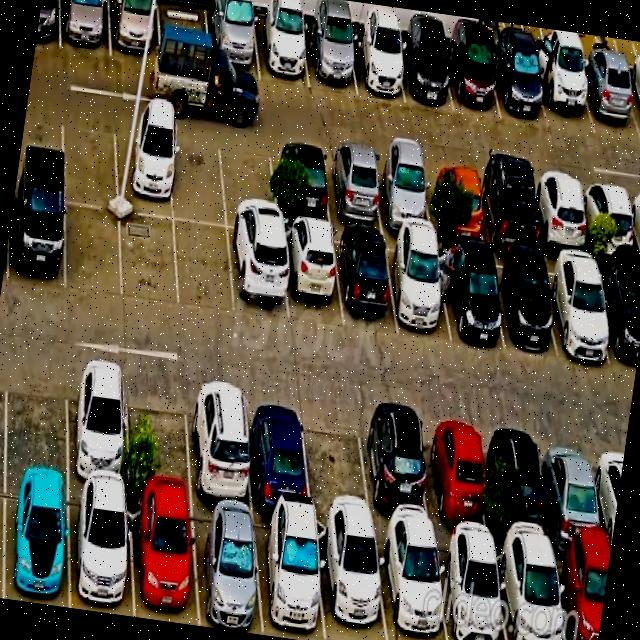empty: (303, 398, 373, 526), (127, 370, 192, 501), (6, 354, 68, 480), (219, 134, 278, 235), (174, 221, 235, 314), (62, 111, 118, 209), (170, 128, 226, 226), (121, 213, 178, 309), (66, 204, 122, 298), (158, 0, 212, 73)
occupied: (190, 503, 263, 635), (359, 406, 434, 534), (129, 494, 199, 626), (254, 512, 325, 640), (422, 412, 490, 542), (3, 477, 69, 608), (541, 427, 608, 555), (316, 520, 387, 640), (70, 484, 134, 617), (188, 379, 253, 509), (245, 388, 311, 515), (68, 360, 129, 491), (375, 531, 448, 640), (491, 420, 553, 548), (435, 536, 507, 640), (543, 255, 612, 363), (436, 246, 505, 350), (487, 252, 557, 353), (385, 237, 451, 343), (495, 543, 566, 640), (334, 230, 398, 332), (281, 223, 343, 328), (114, 119, 173, 219), (8, 191, 65, 292), (228, 230, 288, 322), (476, 168, 540, 253), (553, 549, 610, 640), (425, 161, 486, 244), (270, 142, 331, 225), (595, 261, 640, 372), (577, 61, 640, 140), (372, 154, 433, 234), (324, 148, 384, 229), (533, 56, 595, 134), (580, 179, 638, 260), (532, 174, 590, 254), (491, 47, 548, 127), (445, 41, 501, 118), (253, 14, 310, 88), (396, 39, 453, 111), (206, 6, 260, 81), (348, 32, 405, 103), (304, 25, 357, 93), (109, 0, 161, 63), (60, 0, 111, 56)
